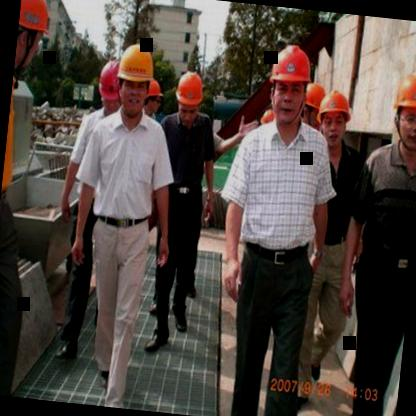helmet: (264, 41, 314, 126), (112, 39, 157, 117), (13, 0, 54, 70), (314, 83, 354, 149), (386, 66, 416, 152), (172, 70, 208, 122), (95, 62, 124, 114), (301, 83, 328, 133), (141, 77, 164, 117)
